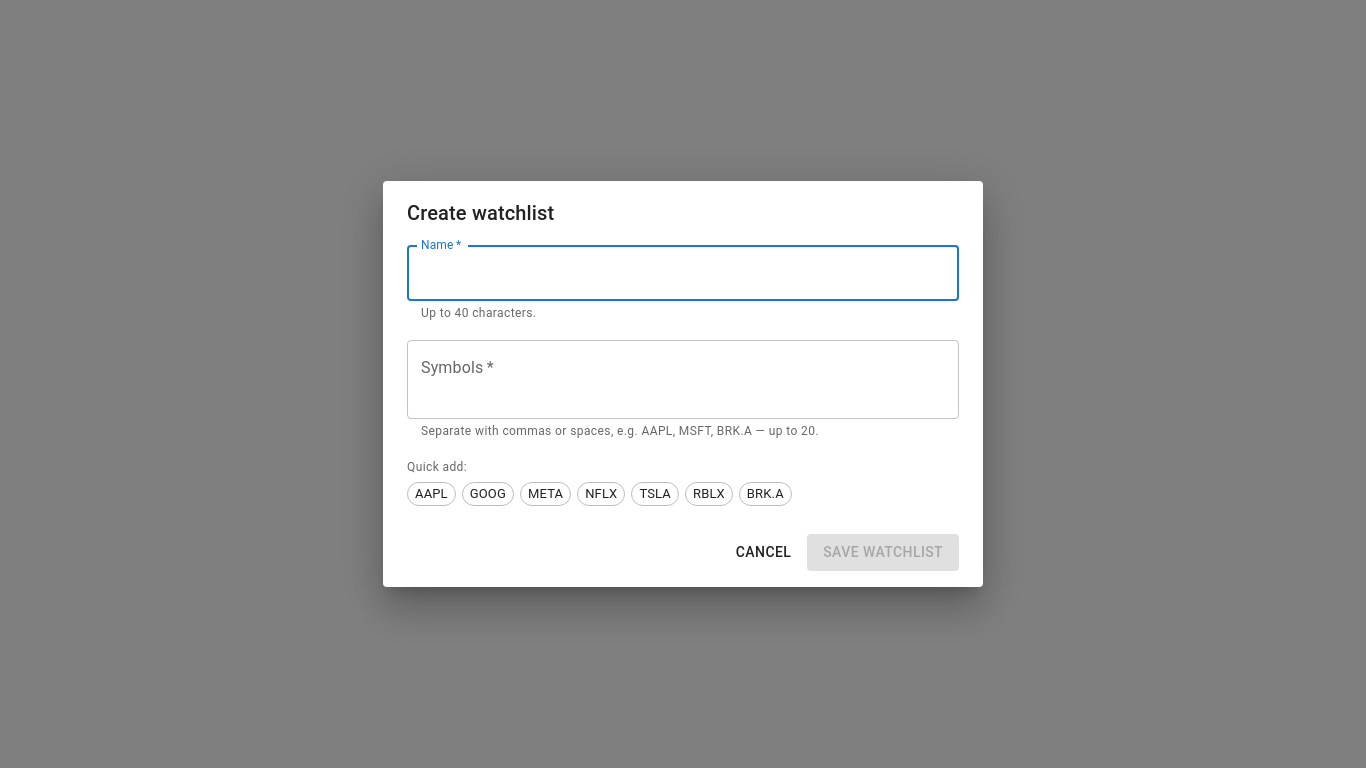
Scenario: CreateWatchlistDialog › previews the parsed symbols as chips while typing and lets a chip remove one
In the text box with test id "watchlist-symbols-input": coordinates (683, 380) [421,357,945,403], type "aapl, goog goog"
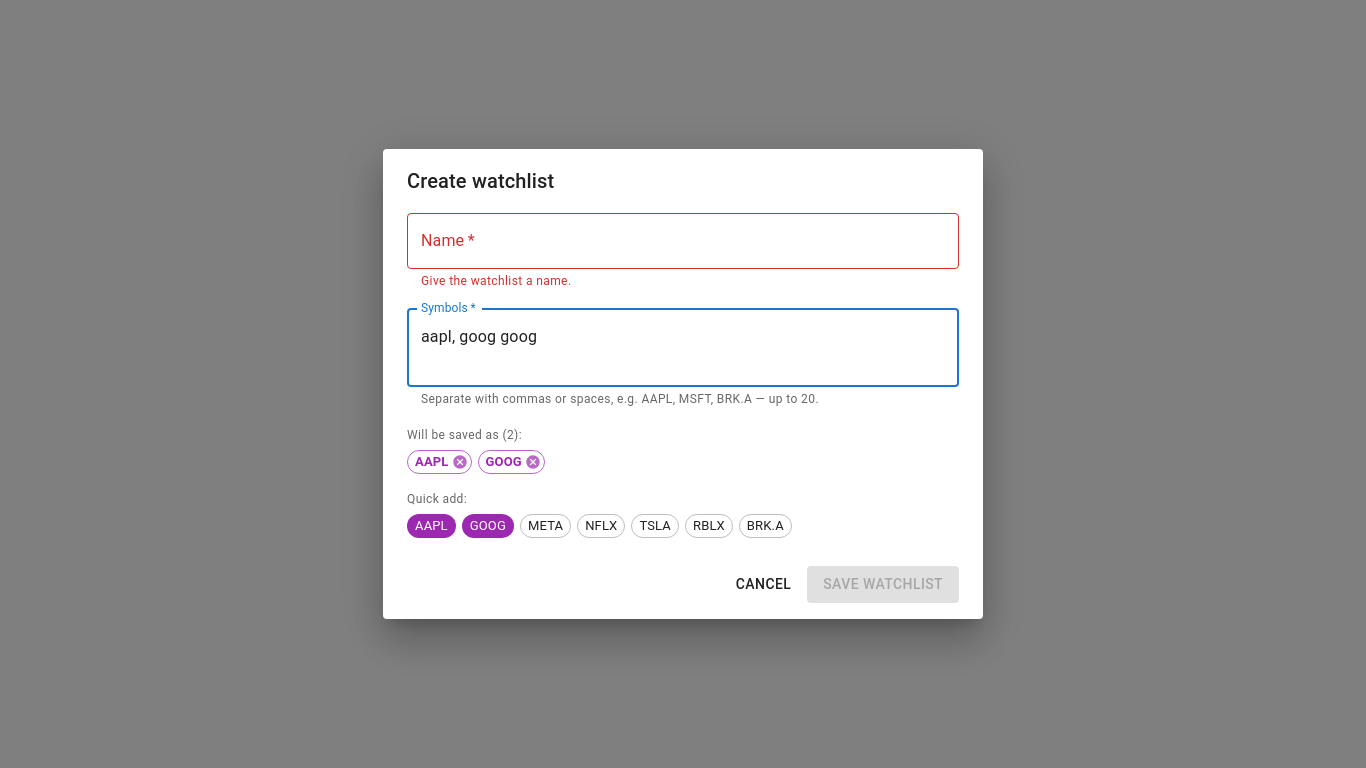
Now the element with test id "watchlist-preview" shows "Will be saved as (2):", box [407,428,545,474]
Now the buttons read "AAPL", "GOOG", in this order, box [407,450,472,474]; [478,450,545,474]
Click the 1st icon with test id "CancelIcon": coordinates (460, 462) [452,454,468,470]
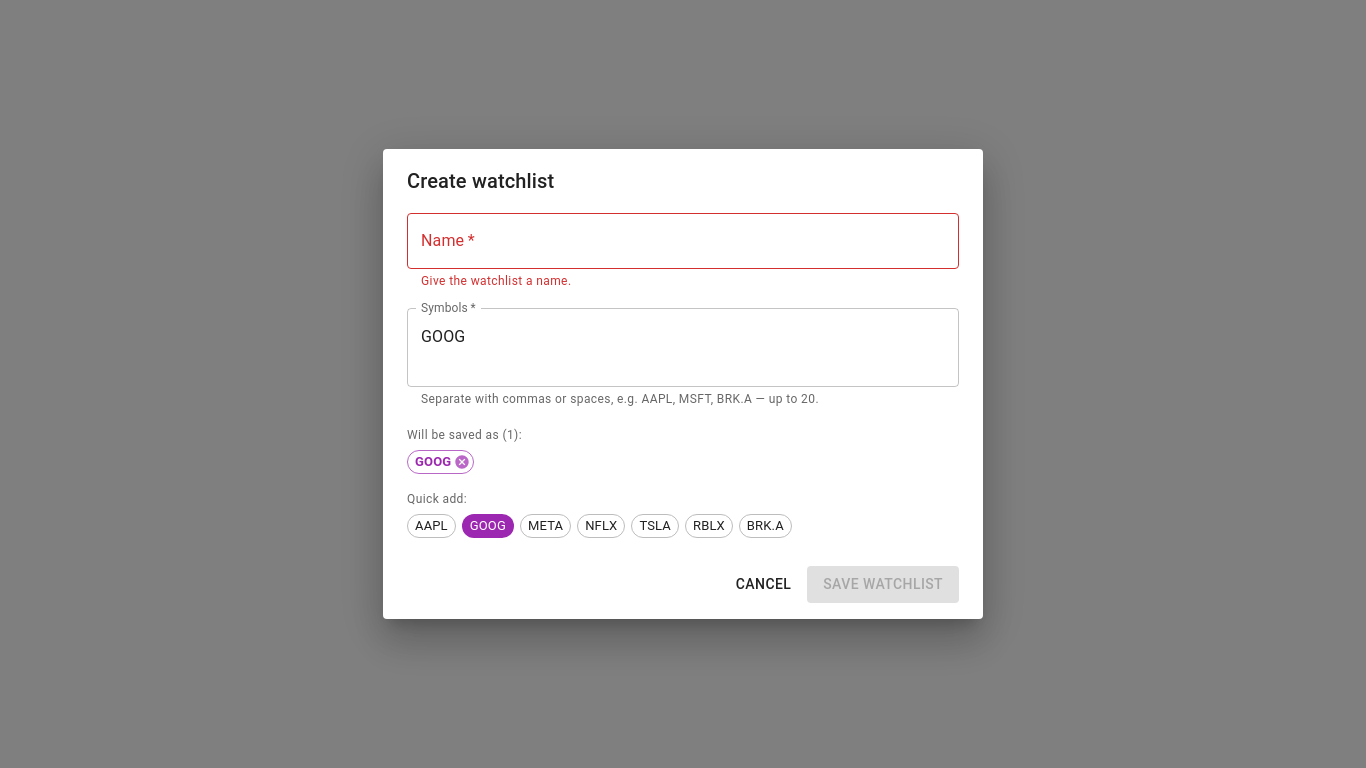
Now the text box with test id "watchlist-symbols-input" holds "GOOG", box [421,325,945,371]
